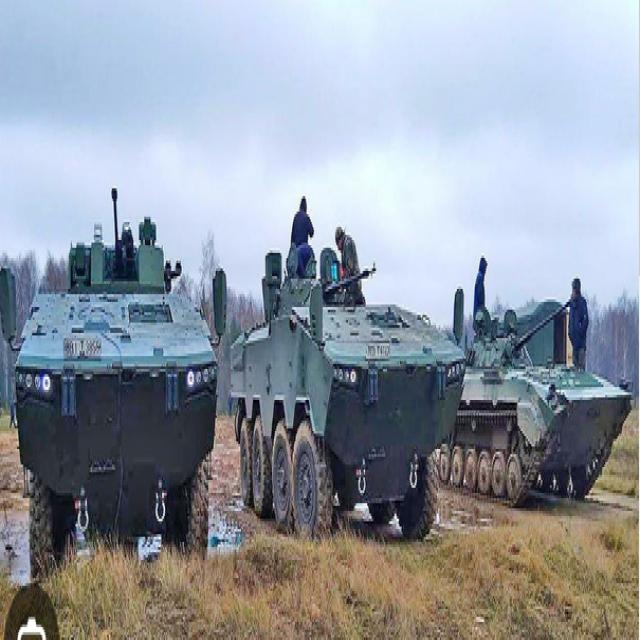MIL_APC: (8, 246, 223, 572), (237, 257, 466, 533), (441, 286, 638, 528)
